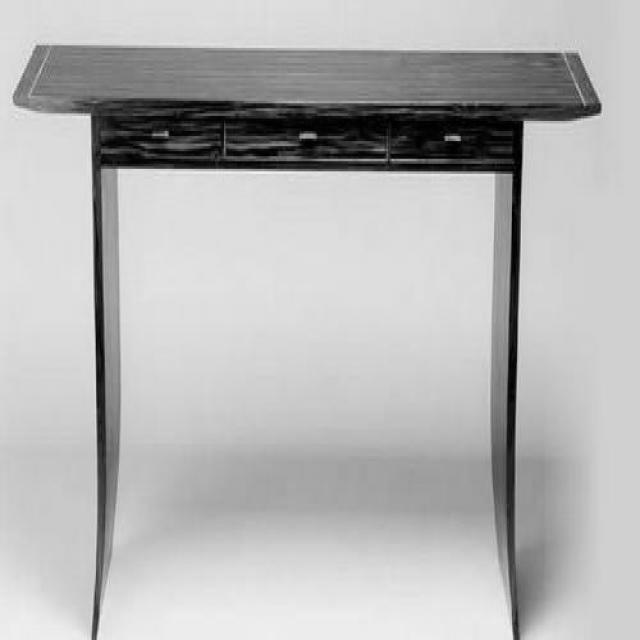table: (9, 45, 602, 638)
